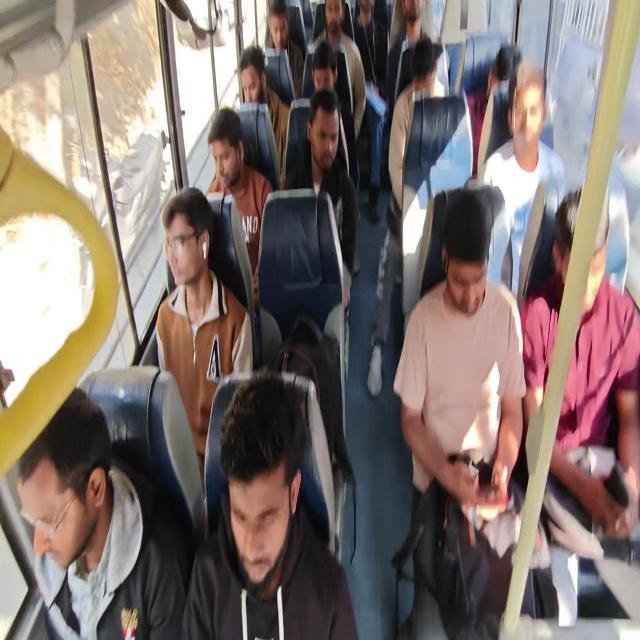person: (4, 1, 637, 638), (392, 187, 527, 638), (519, 184, 639, 625), (180, 370, 359, 638), (15, 386, 187, 639), (156, 187, 254, 488), (366, 35, 446, 398), (479, 59, 566, 300), (284, 88, 359, 308), (206, 107, 274, 310), (308, 0, 366, 188), (388, 35, 445, 214), (352, 0, 388, 222), (386, 0, 447, 124), (238, 44, 290, 175), (263, 1, 304, 100)
